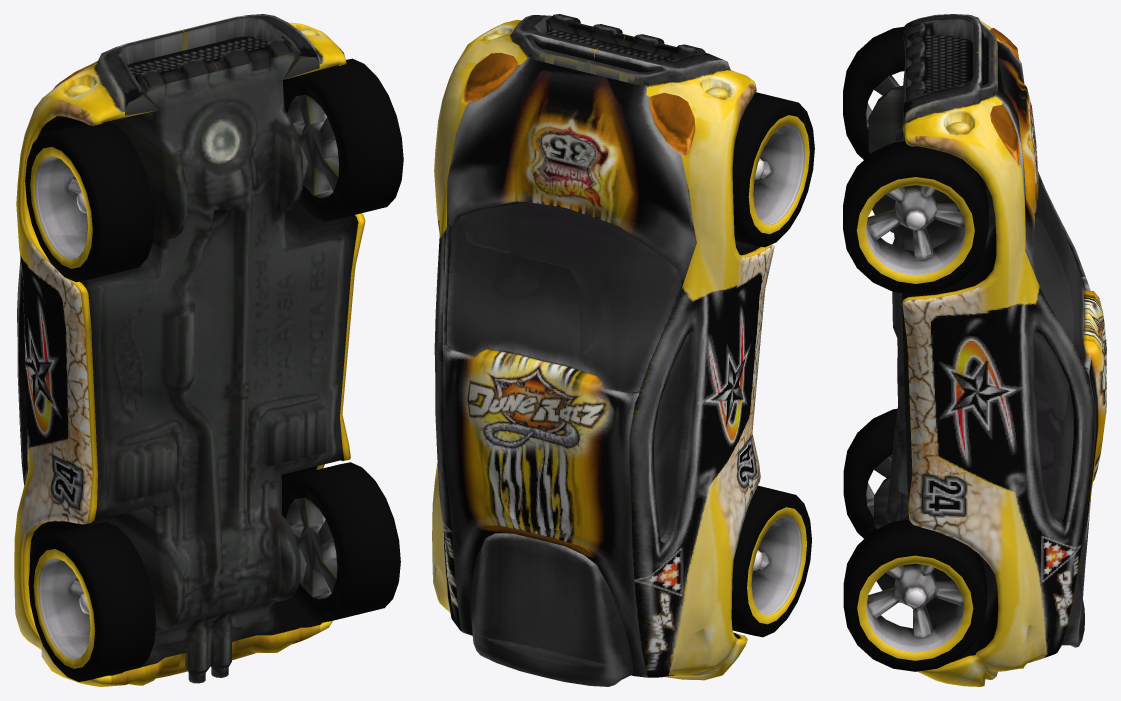
File: toyotarsc.glb
3 views of the same model, side by side, from view 1: azimuth 30°, elevation 25°; view 2: azimuth 150°, elevation 25°; view 3: azimuth 270°, elevation 25° (orthographic). The views are drawn at different scales.
Visible parts, largest first — view 1: Body, wheel_fr, wheel_rr, wheel_fl, wheel_rl; view 2: Body, windshield, wheel_fr, wheel_rr; view 3: Body, wheel_fl, wheel_rl, windshield, wheel_fr, wheel_rr.
Part boxes in pixels (left/top/right/bottom): Body: left=14, top=14, right=365, bottom=686; wheel_fr: left=25, top=121, right=154, bottom=282; wheel_rr: left=28, top=522, right=155, bottom=681; wheel_fl: left=283, top=58, right=403, bottom=221; wheel_rl: left=282, top=462, right=400, bottom=622; Body: left=432, top=14, right=774, bottom=680; windshield: left=446, top=202, right=689, bottom=686; wheel_fr: left=732, top=92, right=814, bottom=247; wheel_rr: left=731, top=485, right=811, bottom=637; Body: left=868, top=14, right=1106, bottom=686; wheel_fl: left=843, top=141, right=988, bottom=295; wheel_rl: left=843, top=519, right=986, bottom=671; windshield: left=1033, top=179, right=1091, bottom=647; wheel_fr: left=843, top=26, right=905, bottom=159; wheel_rr: left=843, top=408, right=897, bottom=538.
Bounding box in the file's own units: 2.51 × 4.93 × 1.99.
Materials: 2 (2 with a texture image).
